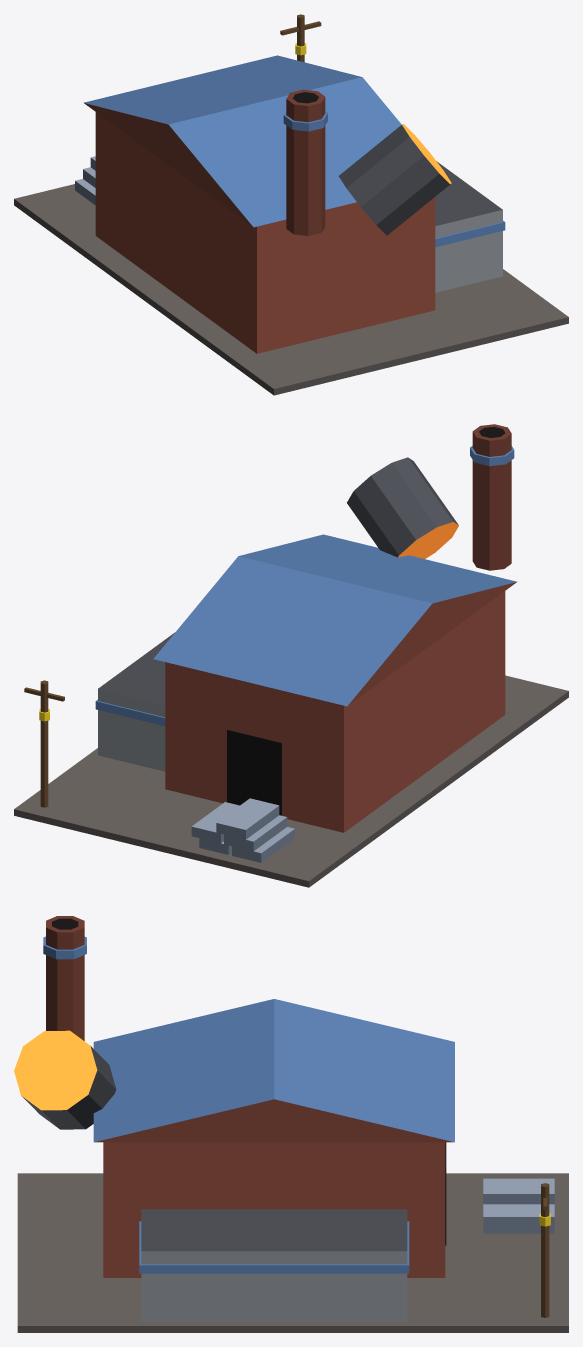
File: steel_mill.glb
The picture shows the model from 3 angles, top to bottom: view 1: azimuth 30°, elevation 25°; view 2: azimuth 150°, elevation 25°; view 3: azimuth 270°, elevation 25°; orthographic projection. The views are drawn at different scales.
Parts seen in each view (by area): view 1: steel_mill; view 2: steel_mill; view 3: steel_mill.
Part boxes in pixels (<box>): steel_mill: <box>14,14,568,395</box>; steel_mill: <box>14,424,568,887</box>; steel_mill: <box>14,916,568,1332</box>.
Size of the model in its own units: 3.8 by 3.3 by 5.84.
